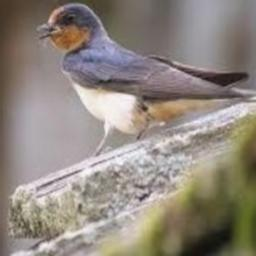Swallow: (35, 3, 256, 156)
